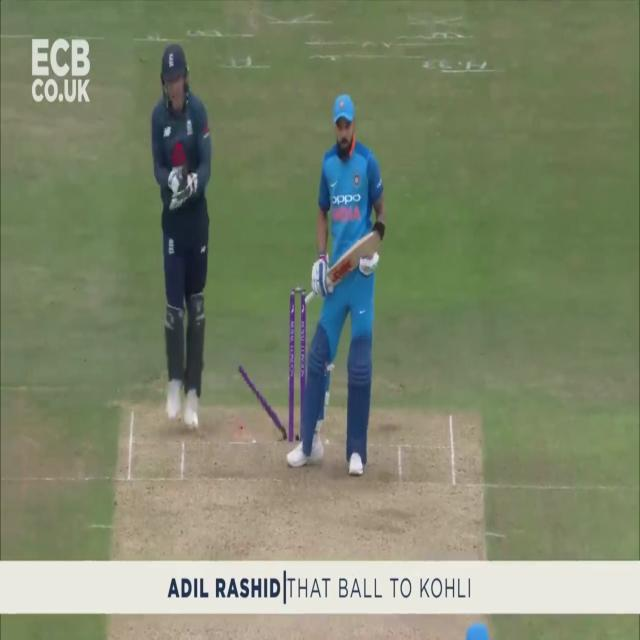cricketBall: (193, 415, 199, 428)
